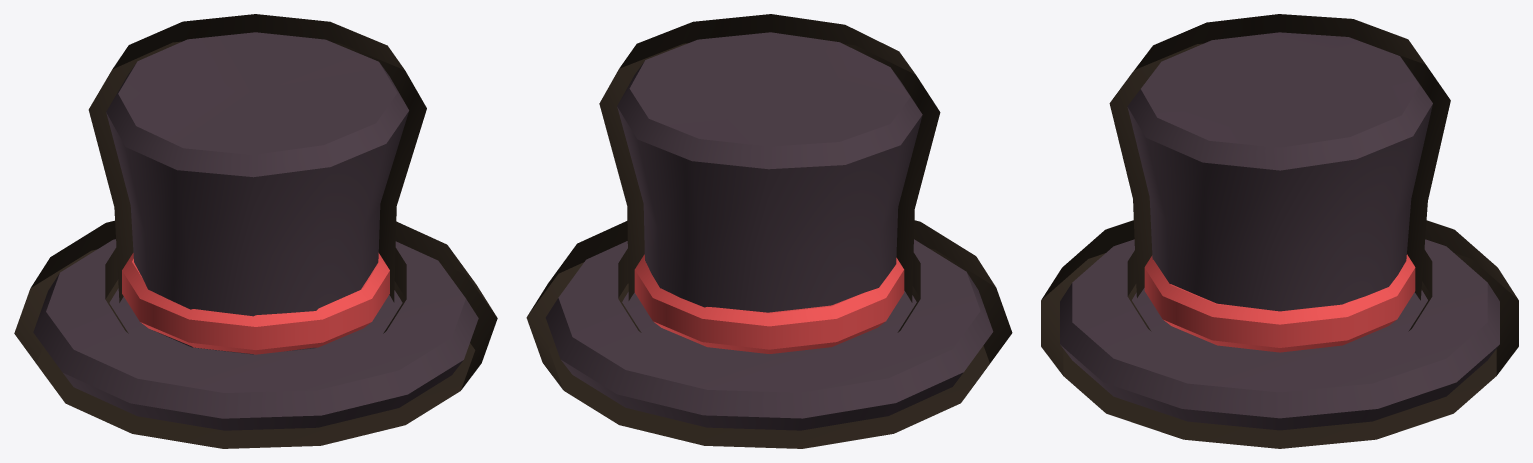
The model's file is hat-top.glb.
3 renders of one model, left to right at view 1: azimuth 30°, elevation 25°; view 2: azimuth 150°, elevation 25°; view 3: azimuth 270°, elevation 25°, orthographic.
Parts seen in each view (by area): view 1: hat-top; view 2: hat-top; view 3: hat-top.
Part boxes in pixels (box(x1,y1,x2,y2)): hat-top: box(14, 14, 497, 448); hat-top: box(526, 14, 1012, 448); hat-top: box(1041, 14, 1518, 448).
Bounding box in the file's own units: 0.7598 × 0.4862 × 0.7408.
